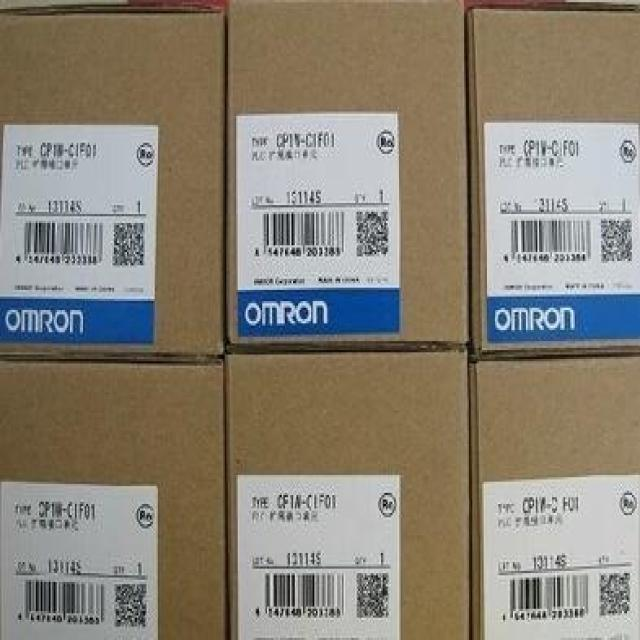box: (226, 3, 467, 350), (0, 3, 226, 358), (226, 346, 471, 636), (2, 357, 228, 638), (468, 8, 638, 359), (469, 350, 638, 638)
